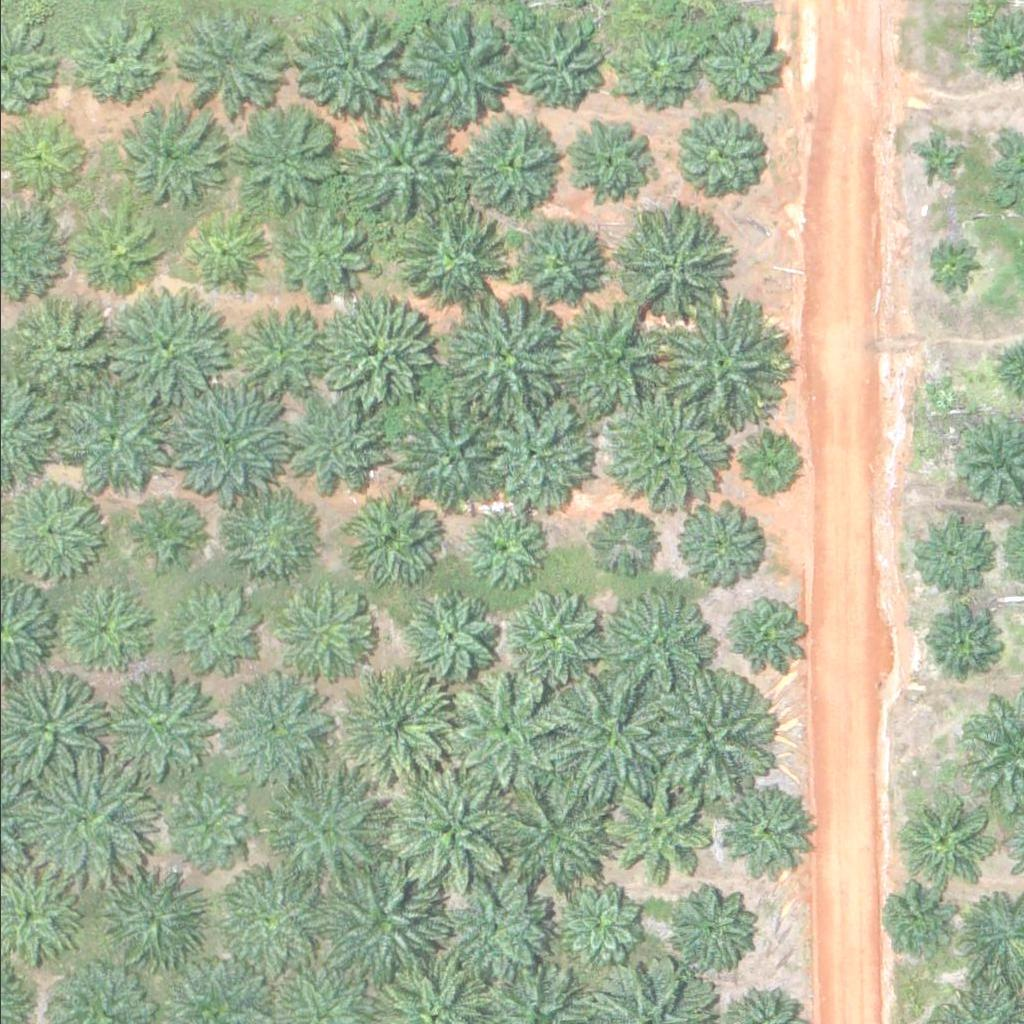Kelapa_Sawit: (24, 751, 150, 876), (385, 773, 511, 898), (645, 672, 771, 797), (650, 302, 776, 427), (552, 676, 677, 801), (335, 666, 449, 779), (607, 402, 721, 515), (394, 198, 508, 311), (327, 862, 440, 975), (265, 776, 378, 889), (451, 677, 564, 790), (102, 670, 215, 783), (603, 591, 716, 704), (173, 384, 286, 497), (545, 305, 658, 418), (444, 296, 557, 409), (324, 293, 437, 406), (264, 191, 377, 304), (105, 301, 219, 413), (229, 103, 343, 215), (113, 100, 227, 212), (397, 9, 511, 121), (211, 861, 324, 973), (498, 778, 611, 890), (213, 668, 326, 780), (55, 383, 168, 495), (393, 402, 506, 514), (480, 397, 593, 509), (339, 108, 452, 220), (444, 878, 545, 978), (601, 785, 702, 885), (712, 783, 813, 883), (298, 400, 399, 500), (514, 220, 615, 320), (670, 104, 771, 204), (178, 4, 279, 104), (337, 489, 437, 589), (16, 304, 116, 404), (617, 215, 717, 315), (461, 117, 561, 217), (292, 8, 392, 108), (508, 13, 608, 113), (670, 499, 759, 587), (181, 210, 269, 298), (109, 877, 197, 965), (59, 586, 147, 674), (513, 590, 601, 678), (459, 500, 547, 588), (235, 299, 323, 387), (69, 202, 157, 290), (567, 111, 655, 199), (73, 13, 161, 101), (903, 793, 991, 881), (717, 591, 805, 678), (283, 593, 371, 680), (409, 592, 497, 679), (228, 494, 316, 581), (612, 31, 700, 118), (695, 19, 783, 106), (578, 501, 654, 576), (672, 891, 748, 966), (555, 889, 631, 964), (169, 596, 245, 671), (918, 606, 994, 681), (914, 517, 990, 592), (180, 790, 255, 865), (739, 435, 802, 498), (134, 503, 197, 566), (887, 888, 950, 951), (921, 239, 972, 289), (912, 132, 963, 182)
